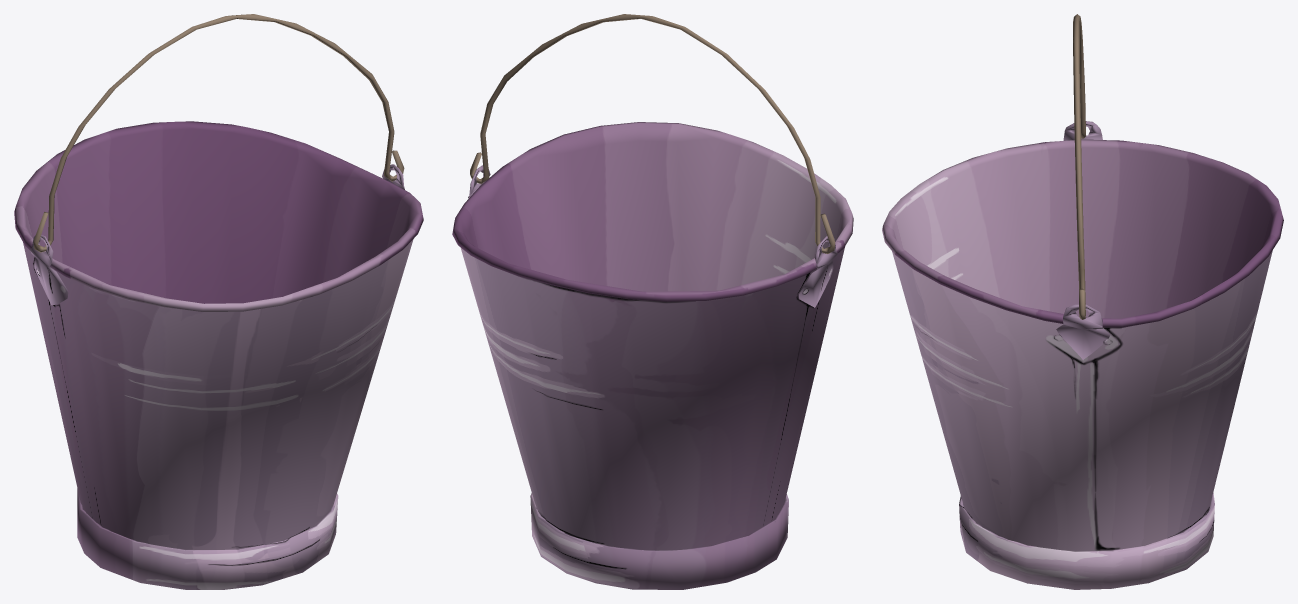
File: MetalBucket_LOD1.fbx
3 renders of one model, left to right at view 1: azimuth 30°, elevation 25°; view 2: azimuth 150°, elevation 25°; view 3: azimuth 270°, elevation 25°, orthographic.
Parts seen in each view (by area): view 1: MetalBucket_LOD1; view 2: MetalBucket_LOD1; view 3: MetalBucket_LOD1.
Part boxes in pixels (<box>): MetalBucket_LOD1: <box>14,14,423,589</box>; MetalBucket_LOD1: <box>452,14,853,589</box>; MetalBucket_LOD1: <box>882,14,1283,589</box>.
Bounding box in the file's own units: 0.3208 × 0.4308 × 0.3071.
1 material, 1 textured.
